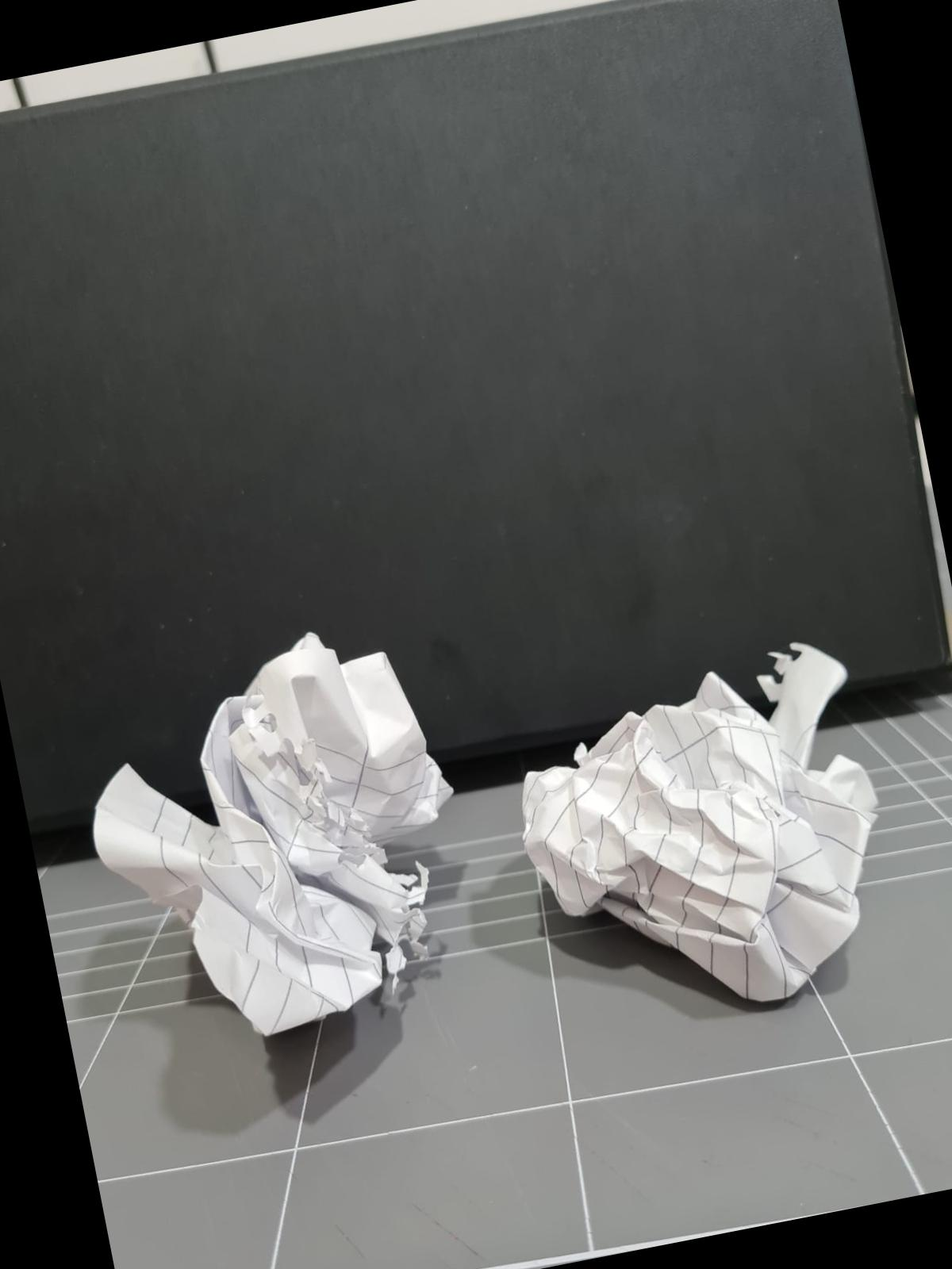Kertas: (491, 608, 919, 1044), (93, 633, 451, 1035), (523, 644, 875, 1000)
